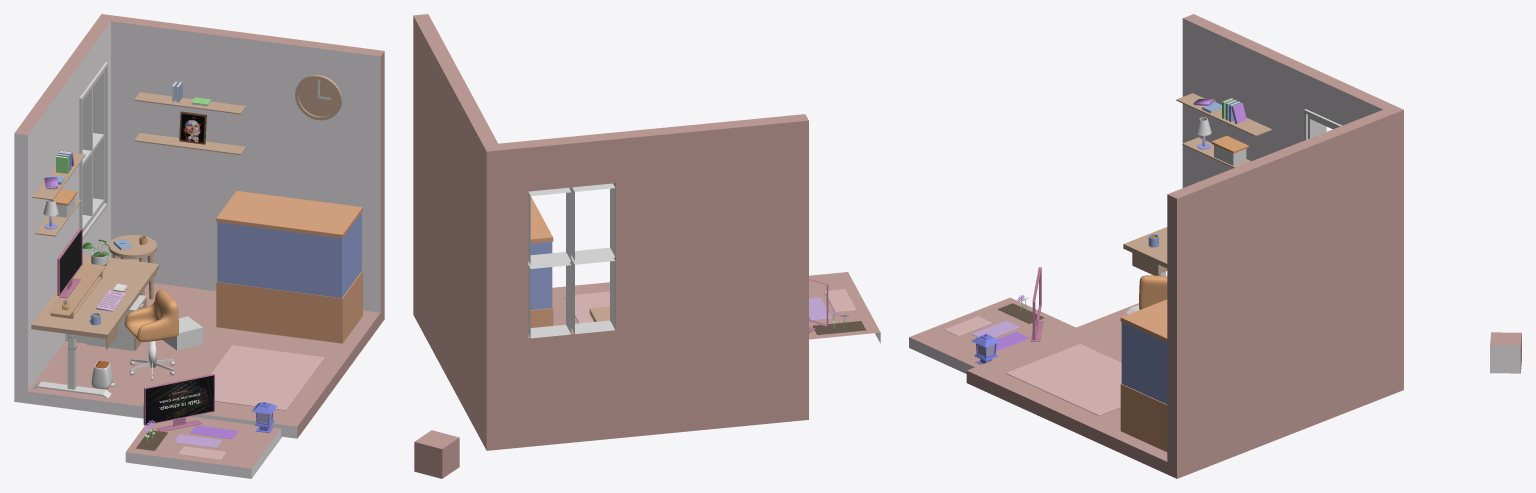
File: Finale Version 16.glb
3 views of the same model, side by side, from view 1: azimuth 30°, elevation 25°; view 2: azimuth 150°, elevation 25°; view 3: azimuth 270°, elevation 25° (orthographic). The views are drawn at different scales.
Parts seen in each view (by area): view 1: Body, Aquarium, Floor Items, Desks, Shelves, Mini Floor, Computer.001, Table Stuff, Chair, Clock, Computer, Cube.002 (+5 smaller); view 2: Body, Aquarium, Mini Floor, Cube.001, Floor Items, Dirt, FloorThird; view 3: Body, Aquarium, Floor Items, Mini Floor, Shelves, Desks, Cube.001, Chair.
Part boxes in pixels (x1,y1,x2,y2): Body: (14, 14, 384, 438); Aquarium: (216, 190, 362, 343); Floor Items: (87, 295, 324, 410); Desks: (31, 235, 159, 398); Shelves: (32, 81, 246, 236); Mini Floor: (125, 416, 281, 478); Computer.001: (143, 374, 214, 431); Table Stuff: (48, 236, 147, 325); Chair: (124, 289, 178, 341); Clock: (295, 75, 342, 120); Computer: (57, 227, 82, 298); Cube.002: (163, 316, 203, 350); Body: (413, 14, 808, 450); Aquarium: (530, 196, 553, 327); Mini Floor: (809, 272, 880, 343); Cube.001: (414, 430, 459, 478); Floor Items: (564, 291, 609, 323); Dirt: (812, 321, 865, 334); FloorThird: (824, 289, 856, 311); Body: (966, 14, 1403, 478); Aquarium: (1120, 299, 1167, 451); Floor Items: (1006, 344, 1121, 415); Mini Floor: (909, 297, 1075, 373); Shelves: (1176, 93, 1271, 167); Desks: (1123, 227, 1167, 313); Cube.001: (1490, 332, 1521, 373); Chair: (1139, 275, 1167, 309).
Bounding box in the file's own units: 27.58 × 19.65 × 38.64.
47 materials, 2 textured.
